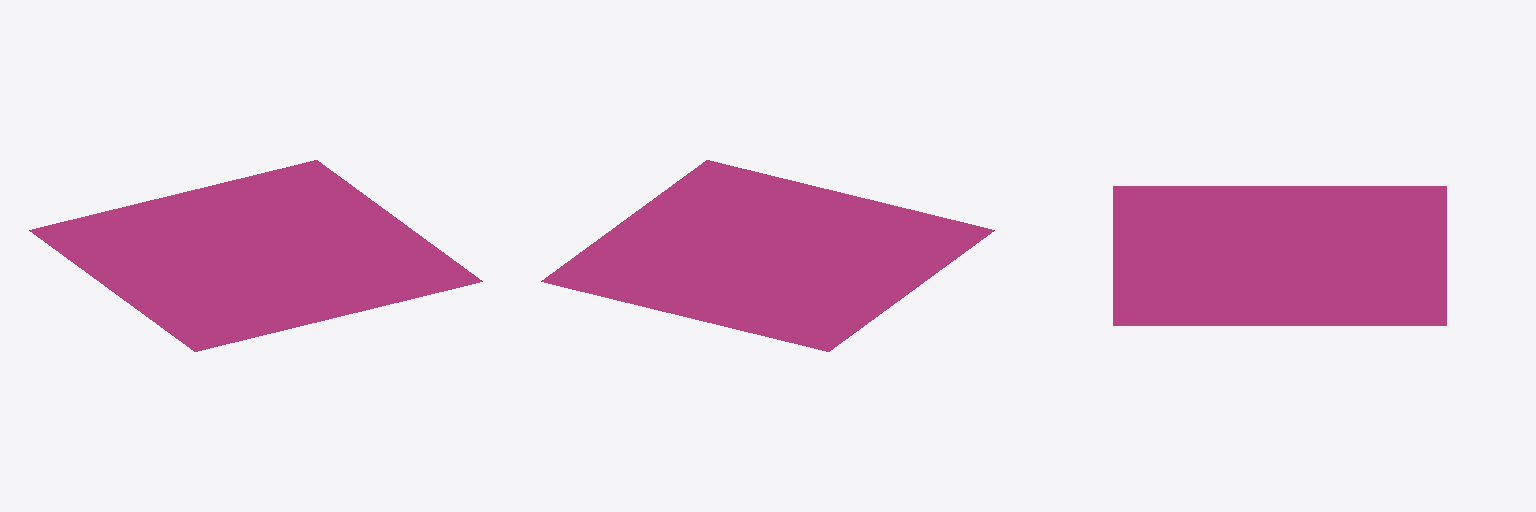
Rendered from heightmapPlane.obj.
3 views of the same model, side by side, from view 1: azimuth 30°, elevation 25°; view 2: azimuth 150°, elevation 25°; view 3: azimuth 270°, elevation 25° (orthographic).
Parts seen in each view (by area): view 1: Plane; view 2: Plane; view 3: Plane.
Part boxes in pixels (left/top/right/bottom): Plane: left=29, top=160, right=482, bottom=351; Plane: left=541, top=160, right=994, bottom=351; Plane: left=1113, top=186, right=1446, bottom=325.
Size of the model in its own units: 20 by 0 by 20.